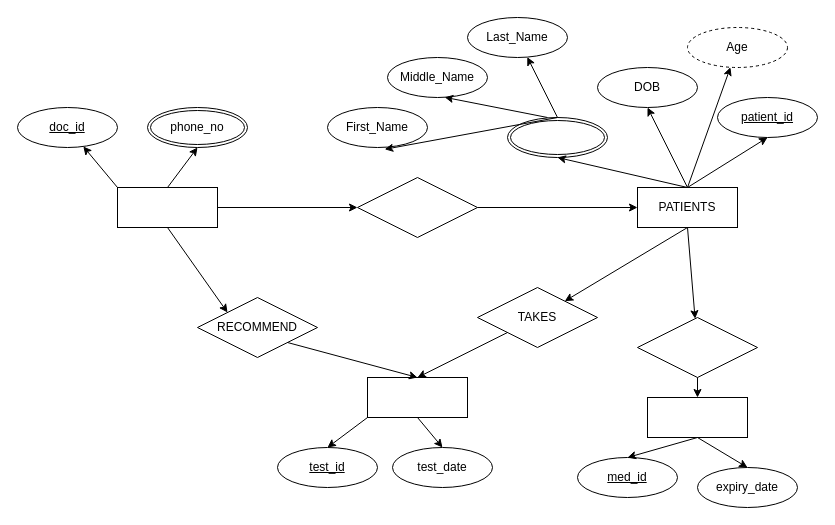
This 835x525 diagram has some shape labels left out. The box of each missing label's shape, as (x1, y1, x2, y2) in pixels:
CHECKS: (356, 176, 478, 238)
DOCTOR: (116, 186, 218, 228)
GETS: (636, 316, 758, 378)
MEDICAL TESTS: (366, 376, 468, 418)
MEDICINES: (646, 396, 748, 438)
Name: (506, 116, 608, 158)
